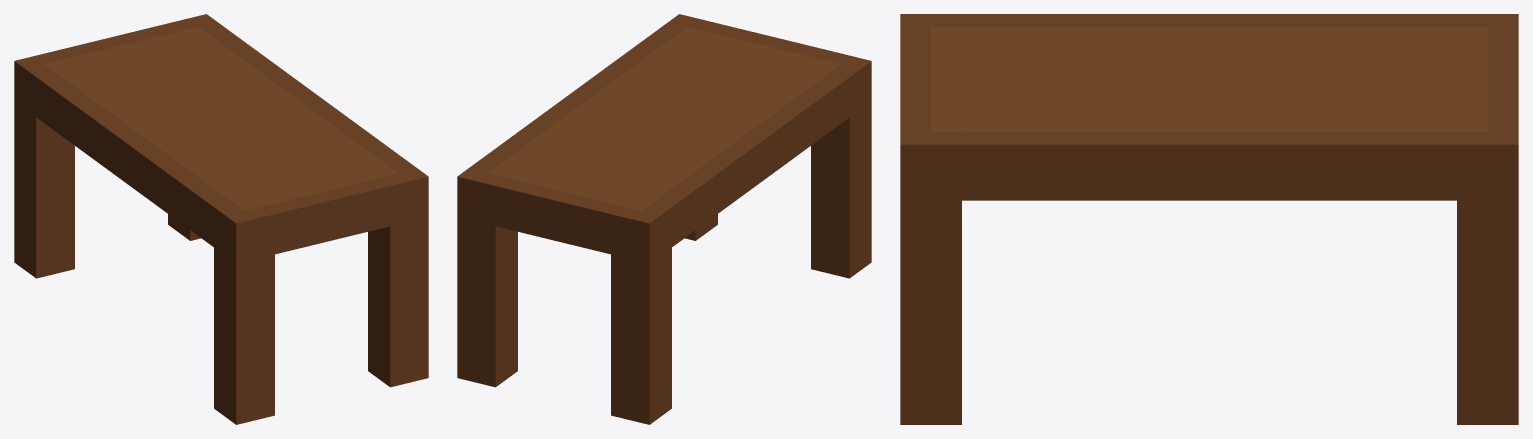
Rendered from table_wood.dae.
3 renders of one model, left to right at view 1: azimuth 30°, elevation 25°; view 2: azimuth 150°, elevation 25°; view 3: azimuth 270°, elevation 25°, orthographic. The views are drawn at different scales.
Parts seen in each view (by area): view 1: table_wood; view 2: table_wood; view 3: table_wood.
Boxes of the visible parts, x1,y1,x2,y2 form: table_wood: (14, 14, 428, 424); table_wood: (457, 14, 871, 424); table_wood: (900, 14, 1518, 424).
Bounding box in the file's own units: 1 × 1 × 2.
Materials: 1 (1 with a texture image).
